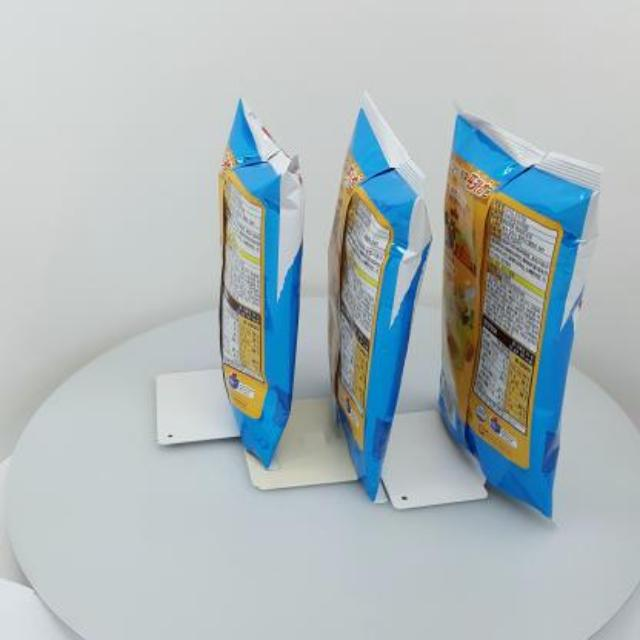snack_bag: (157, 59, 629, 548)
